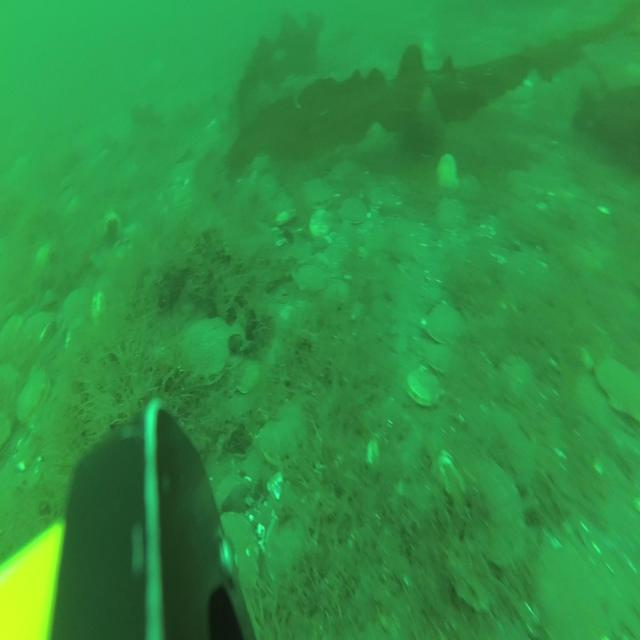scallop: (532, 535, 610, 640), (462, 455, 528, 570), (178, 314, 234, 394), (596, 351, 640, 428), (268, 519, 316, 588), (221, 508, 258, 597), (425, 294, 465, 345), (406, 360, 442, 416), (414, 328, 454, 374), (16, 370, 48, 426), (500, 356, 530, 414), (256, 420, 293, 465), (295, 256, 325, 298), (437, 197, 468, 233), (304, 176, 330, 215), (339, 194, 366, 228), (234, 359, 258, 396), (438, 152, 458, 189), (508, 168, 532, 198), (311, 208, 331, 237)
